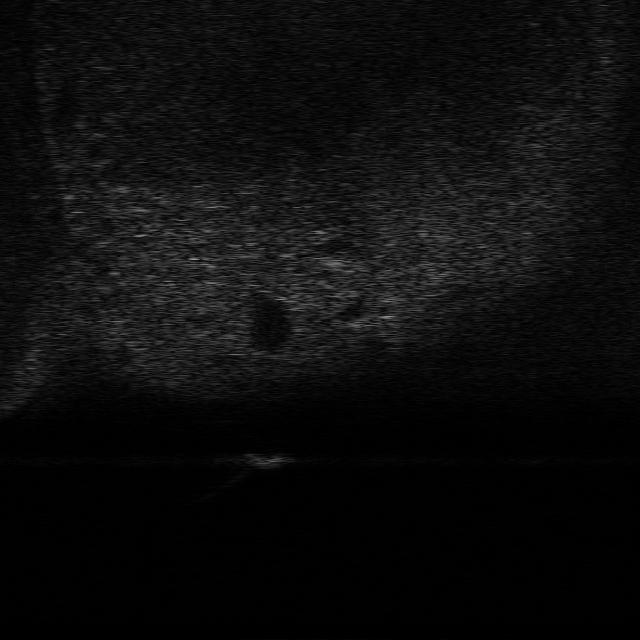cube: (240, 452, 291, 468)
